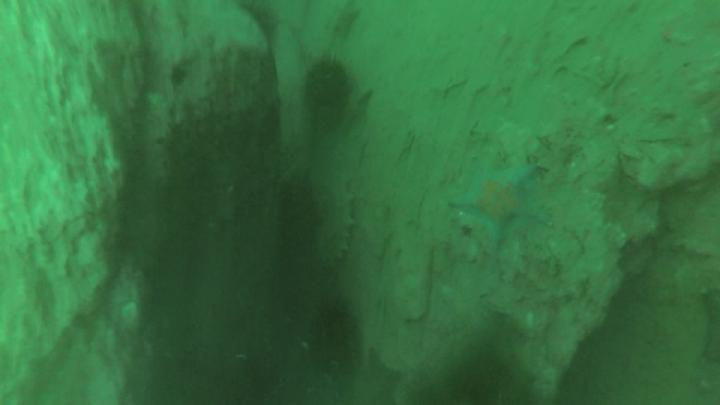echinus: (309, 57, 354, 109)
holothurian: (323, 176, 357, 271)
starfish: (453, 166, 547, 241)
